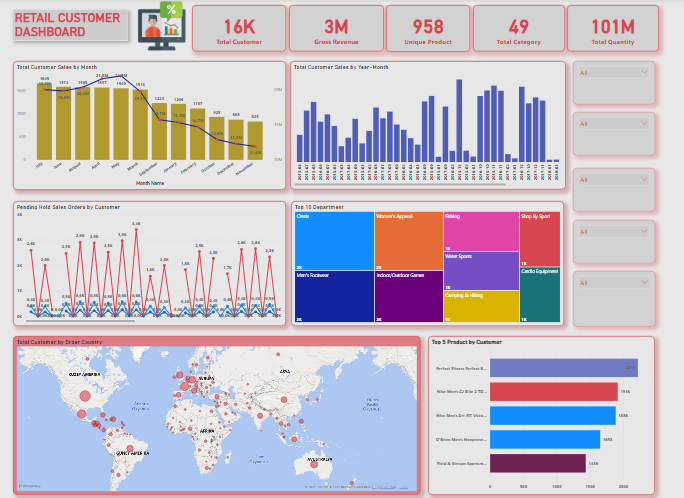

The dashboard page shown, as its layout file describes it:
{"tool":"powerbi","page":{"name":"Customer","canvas":[1990,1450],"ordinal":4},"visuals":[{"type":"textbox","title":"RETAIL CUSTOMER DASHBOARD","box":[37,33.3,333.3,88.9],"z":0},{"type":"card","fields":{"Values":["_measures.Total Customer"]},"box":[556.9,17.6,272.5,135.3],"z":1000},{"type":"card","fields":{"Values":["_measures.Gross Revenue"]},"box":[837.3,17.6,274.5,135.3],"z":2000},{"type":"card","fields":{"Values":["_measures.Unique Product"]},"box":[1120,18,244,136],"z":3000},{"type":"card","fields":{"Values":["Count(income_2024.category_name)"]},"box":[1370.6,17.6,266.7,135.3],"z":4000},{"type":"slicer","fields":{"Values":["income_2024.category_name"]},"box":[1661.5,328.2,238.5,125.6],"z":5000},{"type":"slicer","fields":{"Values":["income_2024.order_country"]},"box":[1661.5,489.7,238.5,125.6],"z":6000},{"type":"slicer","fields":{"Values":["income_2024.customer_segment"]},"box":[1661.5,641,238.5,125.6],"z":7000},{"type":"slicer","fields":{"Values":["Calendar.Year"]},"box":[1661.5,179.5,238.5,125.6],"z":8000},{"type":"slicer","fields":{"Values":["income_2024.order_region"]},"box":[1660.5,789.5,239.5,160.5],"z":9000},{"type":"lineClusteredColumnComboChart","title":"Total Customer Sales by Month ","fields":{"Category":["Calendar.Month Name"],"Y":["_measures.Total Customer"],"Y2":["_measures.Total Sales2"]},"box":[36.8,178.9,792.1,373.7],"z":10000},{"type":"lineChart","title":"Pending Hold Sales Orders by Customer","fields":{"Category":["Calendar.Year-Month","income_2024.Price Segment"],"Y":["_measures.Total Customer","income_2024.Pending Hold Orders","income_2024.Pending Hold Sales"]},"box":[36.8,586.8,792.1,363.2],"z":11000},{"type":"lineStackedColumnComboChart","title":"Total Customer Sales by Year-Month","fields":{"Category":["Calendar.Year-Month"],"Y":["_measures.Total Customer","_measures.Yearly Sales"]},"box":[840.4,178.8,800,373.1],"z":12000},{"type":"map","title":"Total Customer by Order Country","fields":{"Category":["income_2024.order_country"],"Size":["_measures.Total Customer"]},"box":[36.8,976.3,1181.6,460.5],"z":13000},{"type":"card","fields":{"Values":["Sum(income_2024.order_item_quantity)"]},"box":[1645.1,17.6,266.7,135.3],"z":14000},{"type":"treemap","title":"Top 10 Department","fields":{"Group":["income_2024.category_name"],"Values":["_measures.Total Customer"]},"box":[844.7,586.8,792.1,363.2],"z":15000},{"type":"barChart","title":"Top 5 Product by Customer","fields":{"Category":["income_2024.product_name"],"Y":["_measures.Total Customer"]},"box":[1242.1,976.3,657.9,460.5],"z":16000},{"type":"image","box":[285.2,0,370.4,155.6],"z":17000}]}

Visuals, with their boxes in screenshot pixels (x1, y1, x2, y2), scaled from the page's 1990x1450 canvas onto the 684x498 screenshot:
"RETAIL CUSTOMER DASHBOARD" textbox: pyautogui.locateOnScreen(13, 11, 127, 42)
card - _measures.Total Customer: pyautogui.locateOnScreen(191, 6, 285, 53)
card - _measures.Gross Revenue: pyautogui.locateOnScreen(288, 6, 382, 53)
card - _measures.Unique Product: pyautogui.locateOnScreen(385, 6, 469, 53)
card - Count(income_2024.category_name): pyautogui.locateOnScreen(471, 6, 563, 53)
slicer - income_2024.category_name: pyautogui.locateOnScreen(571, 113, 653, 156)
slicer - income_2024.order_country: pyautogui.locateOnScreen(571, 168, 653, 211)
slicer - income_2024.customer_segment: pyautogui.locateOnScreen(571, 220, 653, 263)
slicer - Calendar.Year: pyautogui.locateOnScreen(571, 62, 653, 105)
slicer - income_2024.order_region: pyautogui.locateOnScreen(571, 271, 653, 326)
"Total Customer Sales by Month " lineClusteredColumnComboChart: pyautogui.locateOnScreen(13, 61, 285, 190)
"Pending Hold Sales Orders by Customer" lineChart: pyautogui.locateOnScreen(13, 202, 285, 326)
"Total Customer Sales by Year-Month" lineStackedColumnComboChart: pyautogui.locateOnScreen(289, 61, 564, 190)
"Total Customer by Order Country" map: pyautogui.locateOnScreen(13, 335, 419, 493)
card - Sum(income_2024.order_item_quantity): pyautogui.locateOnScreen(565, 6, 657, 53)
"Top 10 Department" treemap: pyautogui.locateOnScreen(290, 202, 563, 326)
"Top 5 Product by Customer" barChart: pyautogui.locateOnScreen(427, 335, 653, 493)
image: pyautogui.locateOnScreen(98, 0, 225, 53)
